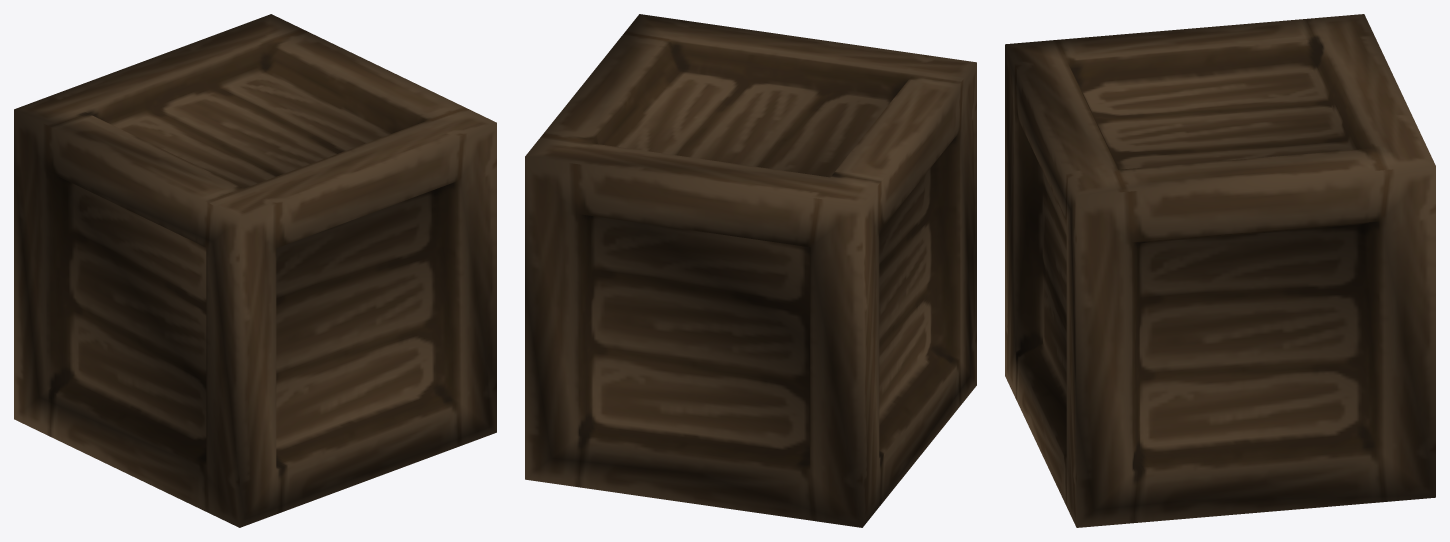
The model's file is Crate.fbx.
3 renders of one model, left to right at view 1: azimuth 30°, elevation 25°; view 2: azimuth 150°, elevation 25°; view 3: azimuth 270°, elevation 25°, orthographic. The views are drawn at different scales.
Parts seen in each view (by area): view 1: Crate; view 2: Crate; view 3: Crate.
Boxes of the visible parts, left/top/right/bottom form: Crate: left=14, top=14, right=496, bottom=527; Crate: left=525, top=14, right=976, bottom=527; Crate: left=1005, top=14, right=1435, bottom=527.
Bounding box in the file's own units: 27.69 × 27.69 × 23.54.
1 material, 1 textured.
